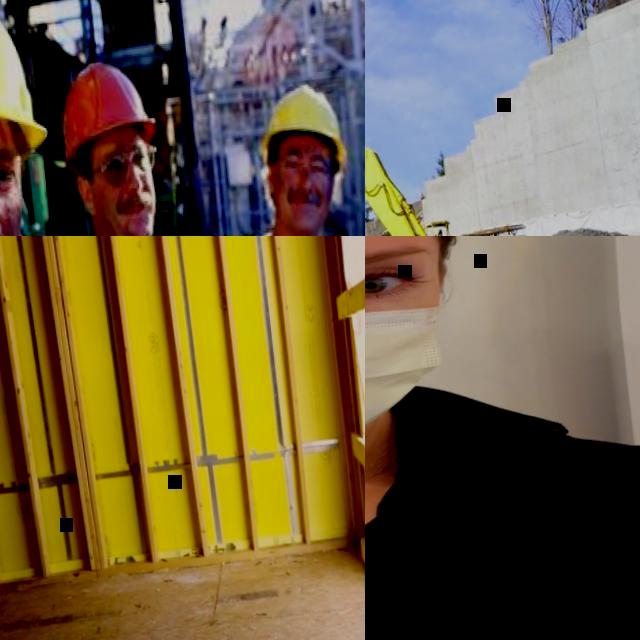helmet: (52, 52, 162, 173), (256, 77, 351, 166), (0, 0, 53, 151)
mask: (365, 244, 468, 466)
no_mask: (97, 187, 165, 236), (273, 182, 333, 234)
no_vest: (365, 401, 627, 640)
person: (365, 236, 640, 640), (35, 45, 266, 236), (189, 73, 365, 236), (0, 0, 97, 236), (433, 227, 445, 236)
vest: (436, 233, 444, 236)
